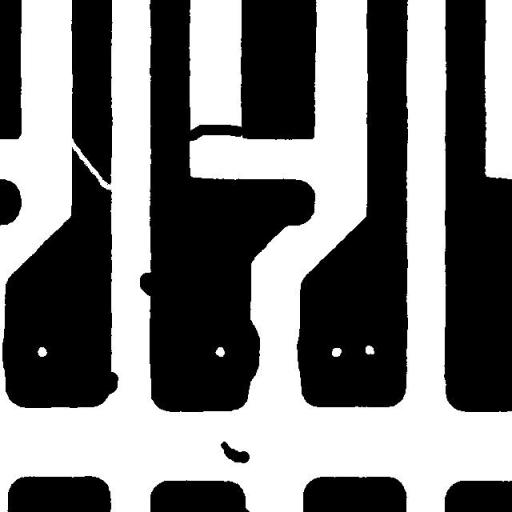copper: (213, 434, 257, 470)
open: (58, 124, 120, 198)
pin-hole: (358, 338, 382, 362)
short: (175, 117, 251, 149)
spur: (132, 265, 166, 303), (92, 364, 126, 402)
